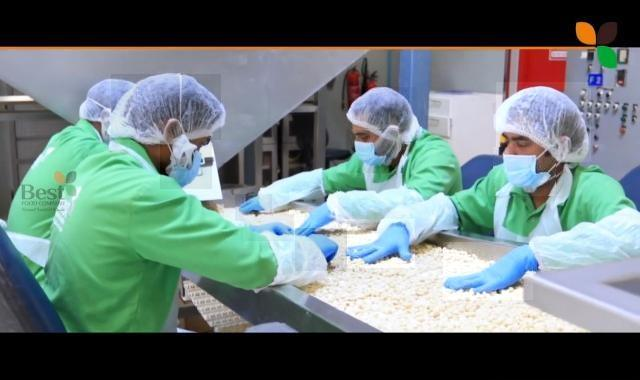apron: (443, 243, 533, 301), (342, 220, 416, 269), (296, 229, 348, 272), (289, 191, 338, 235), (245, 214, 294, 241), (236, 194, 273, 222)
gloves: (496, 82, 591, 162), (111, 74, 222, 140), (349, 88, 417, 144)
mask: (160, 122, 212, 190), (494, 148, 557, 197), (347, 129, 404, 173)
